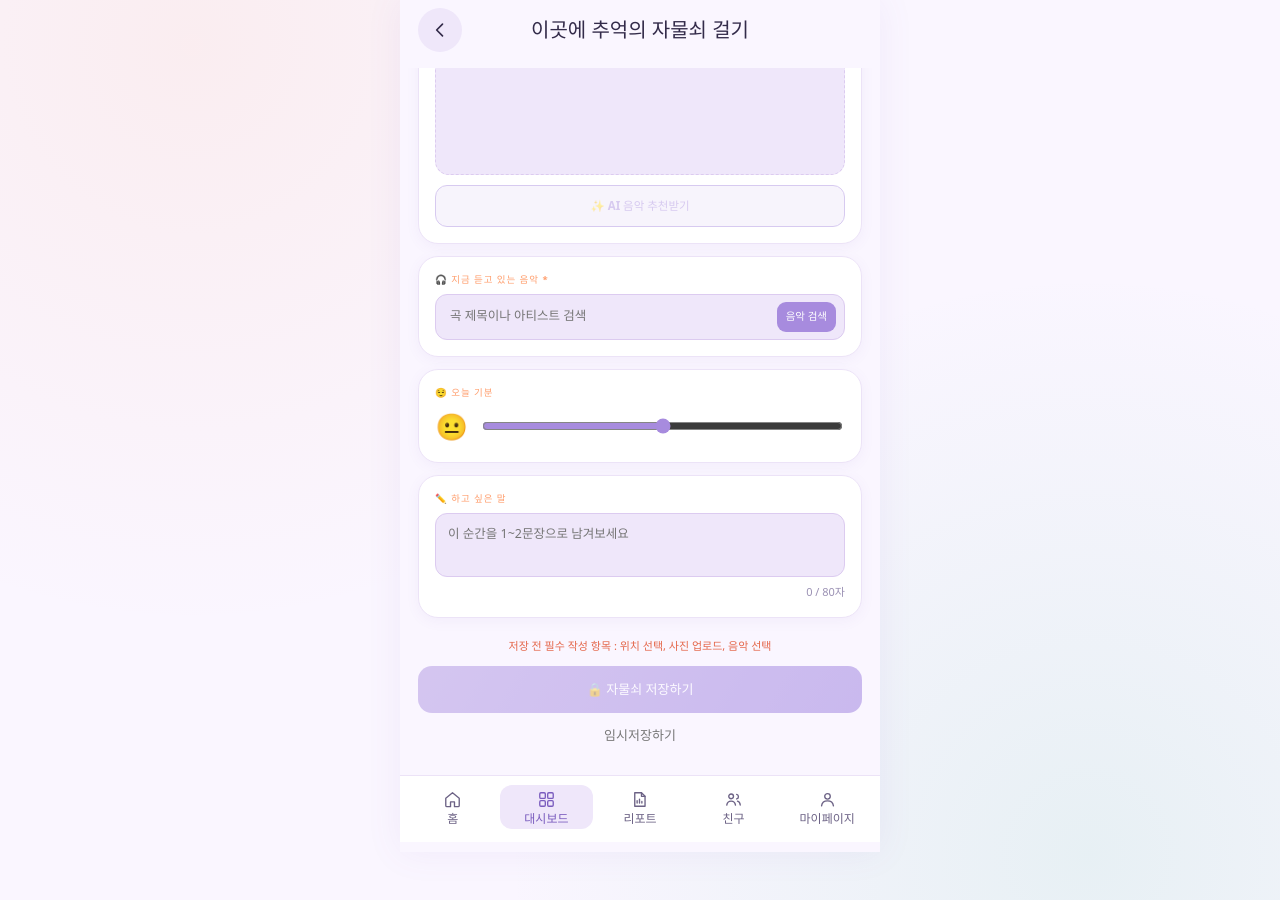
Test: LockCreatePage › changes the mood emoji at the mockup score boundaries
(page scrolled)
Set the slider named "오늘 기분" to "-1" at (659, 426), box x1=482 y1=418 x2=843 y2=434
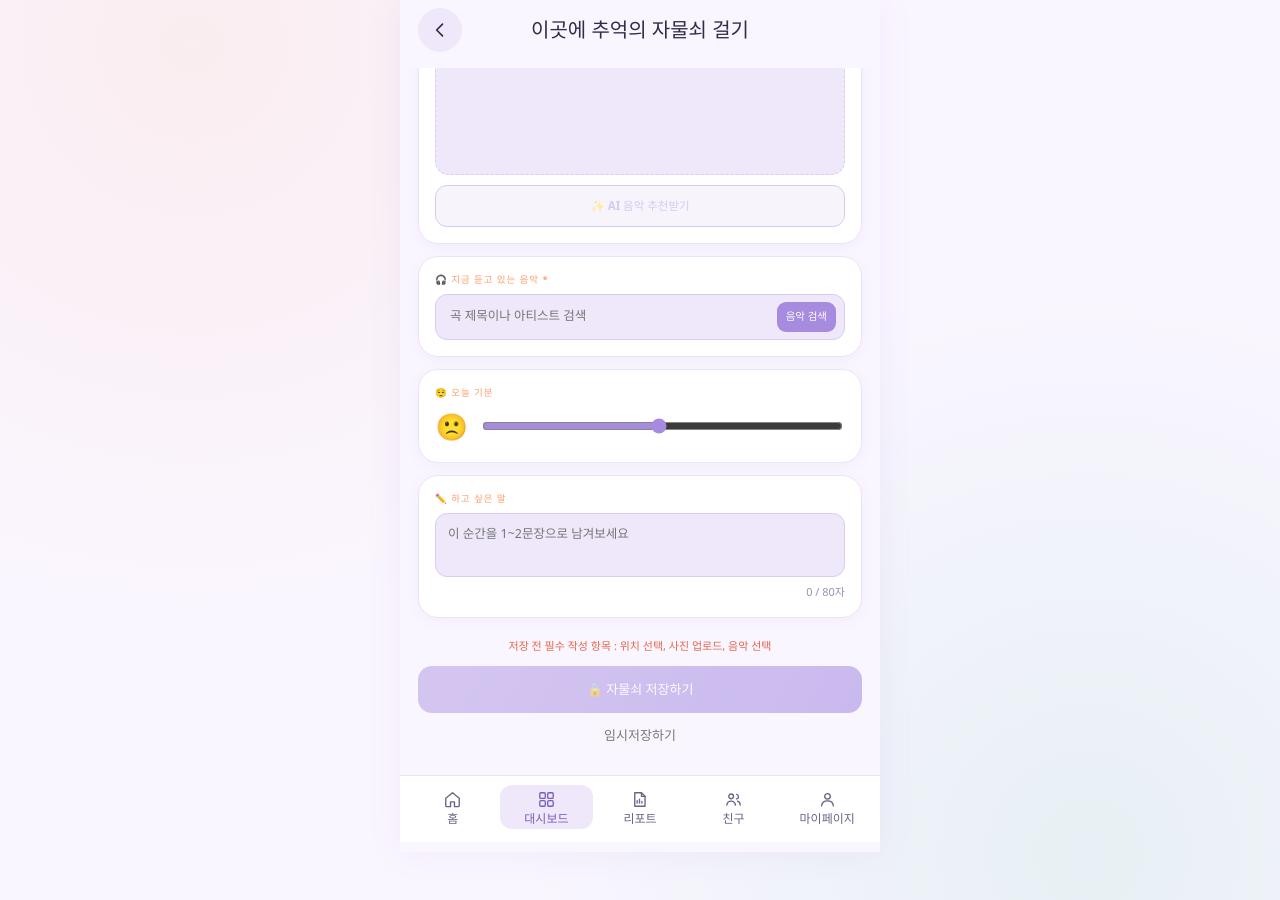
Result: the text "🙁" is shown at x1=435 y1=407 x2=468 y2=446
Set the slider named "오늘 기분" to "41" at (804, 426), box x1=482 y1=418 x2=843 y2=434
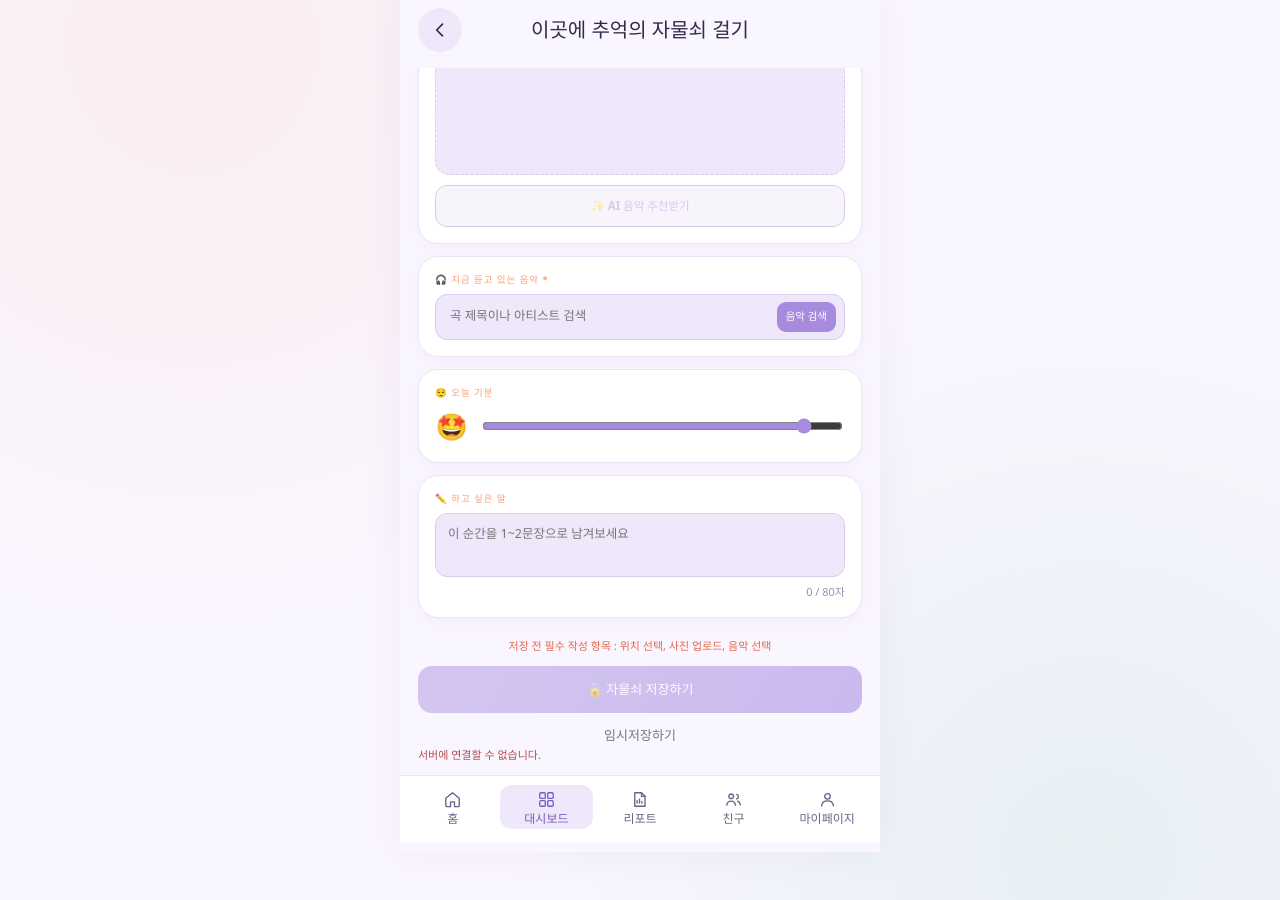
Result: the text "🤩" is shown at x1=435 y1=407 x2=468 y2=446
